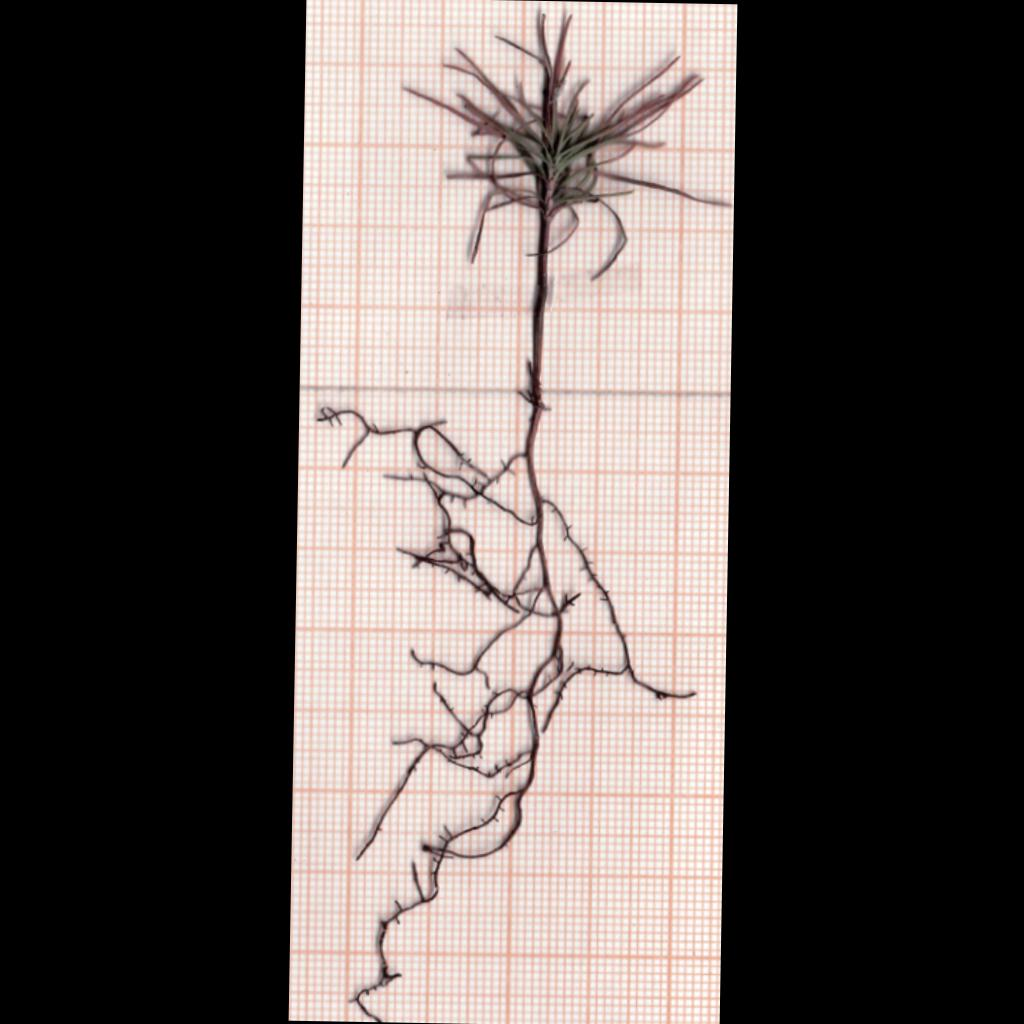flowerCedr: (407, 16, 715, 279)
rootCedr: (319, 407, 692, 1021)
stemCedr: (526, 214, 549, 469)
